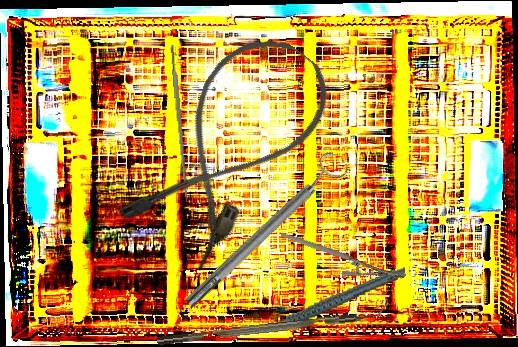Cannula: (110, 16, 347, 277)
Chopper: (155, 300, 391, 346)
Fixation Ring: (176, 148, 352, 315)
Handpiece: (255, 265, 412, 333)
Needle Holder: (280, 198, 407, 312)
Scalpel Handle: (169, 44, 190, 198)
